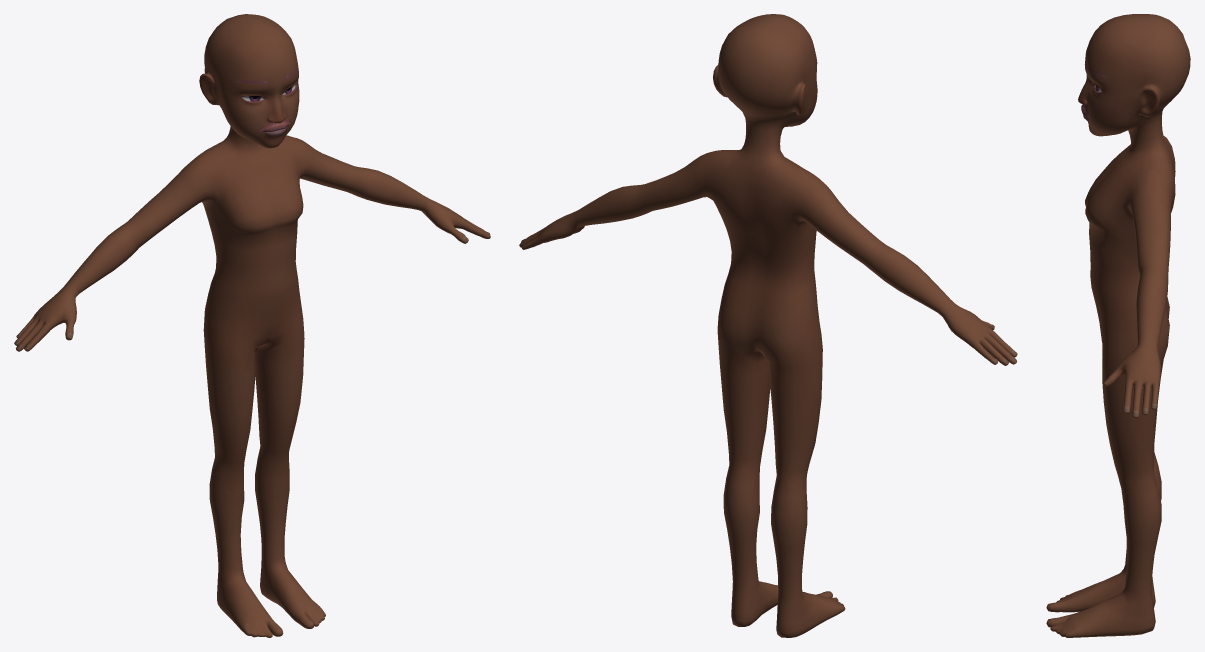
Rendered from frame_0012.glb.
The picture shows the model from 3 angles, left to right: view 1: azimuth 30°, elevation 25°; view 2: azimuth 150°, elevation 25°; view 3: azimuth 270°, elevation 25°; orthographic projection. The views are drawn at different scales.
Parts seen in each view (by area): view 1: frame_0012_head_geo; view 2: frame_0012_head_geo; view 3: frame_0012_head_geo.
Part boxes in pixels (bbox=[...]): frame_0012_head_geo: bbox=[14, 14, 490, 637]; frame_0012_head_geo: bbox=[519, 14, 1017, 637]; frame_0012_head_geo: bbox=[1046, 14, 1190, 637].
Size of the model in its own units: 1.28 by 1.5 by 0.3253.
3 materials, 3 textured.
